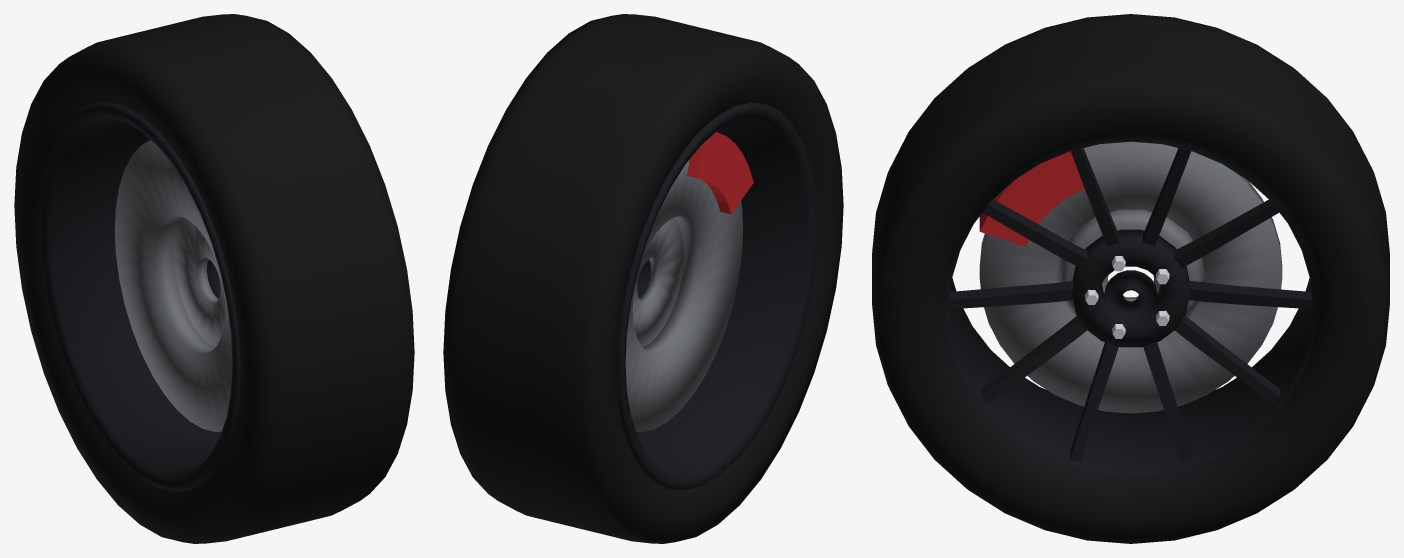
Rendered from w05_multi10_19.glb.
The picture shows the model from 3 angles, left to right: view 1: azimuth 30°, elevation 25°; view 2: azimuth 150°, elevation 25°; view 3: azimuth 270°, elevation 25°; orthographic projection.
Visible parts, largest first — view 1: wheel, brake; view 2: wheel, brake; view 3: wheel, brake.
Part boxes in pixels (bbox=[...]): wheel: bbox=[14, 14, 414, 543]; brake: bbox=[114, 140, 232, 431]; wheel: bbox=[443, 14, 843, 543]; brake: bbox=[625, 132, 753, 431]; wheel: bbox=[872, 14, 1389, 543]; brake: bbox=[979, 141, 1282, 413].
Size of what is drawn, in the model's own units: 0.235 by 0.66 by 0.66.
